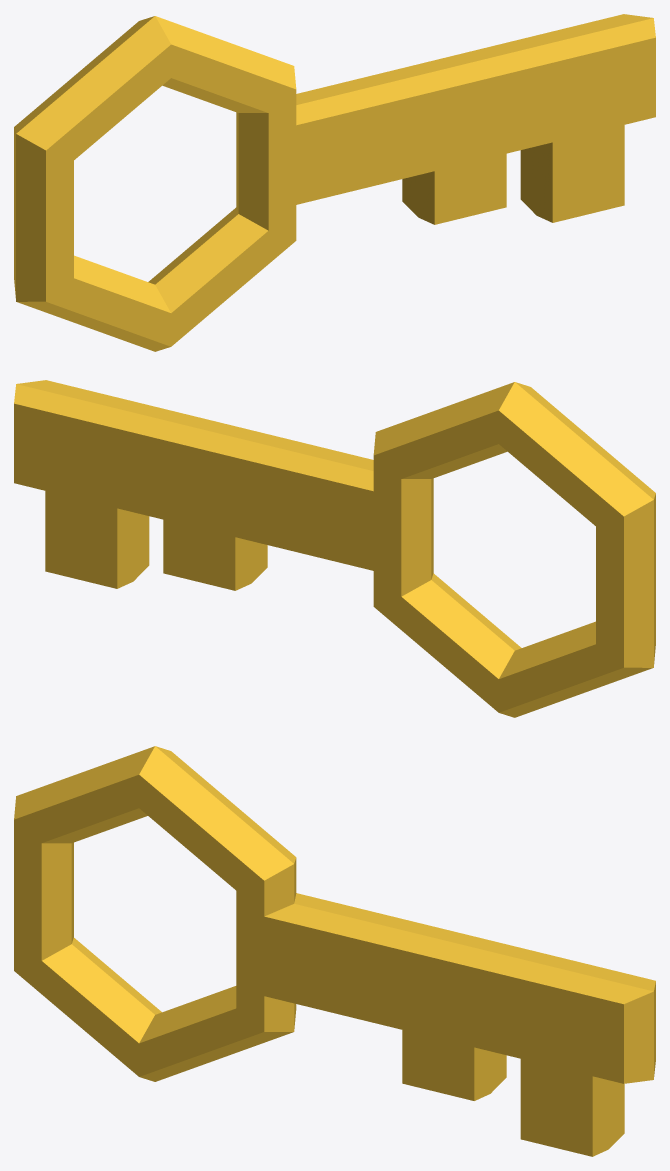
File: llavefbx.fbx
The picture shows the model from 3 angles, top to bottom: view 1: azimuth 30°, elevation 25°; view 2: azimuth 150°, elevation 25°; view 3: azimuth 330°, elevation 25°; orthographic projection.
Parts seen in each view (by area): view 1: Key.001; view 2: Key.001; view 3: Key.001.
Boxes of the visible parts, <box> form: Key.001: <box>14,14,655,351</box>; Key.001: <box>14,380,655,717</box>; Key.001: <box>14,746,655,1156</box>.
Bounding box in the file's own units: 30.53 × 15.37 × 2.66.
